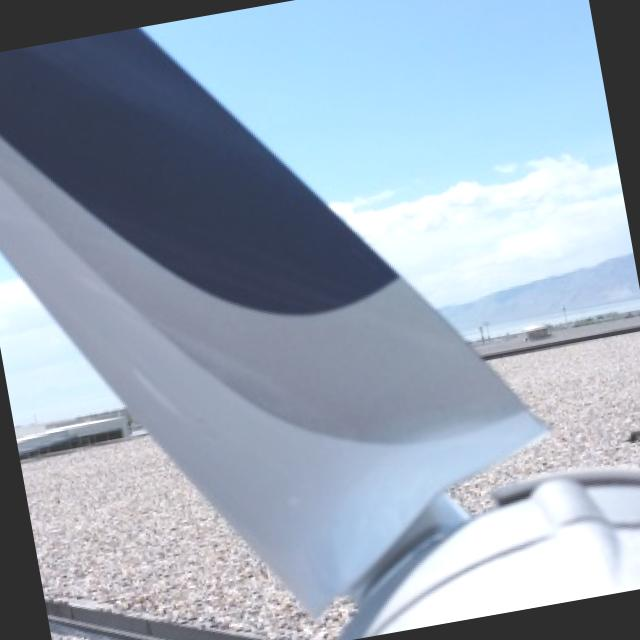healthy: (0, 27, 640, 639)
